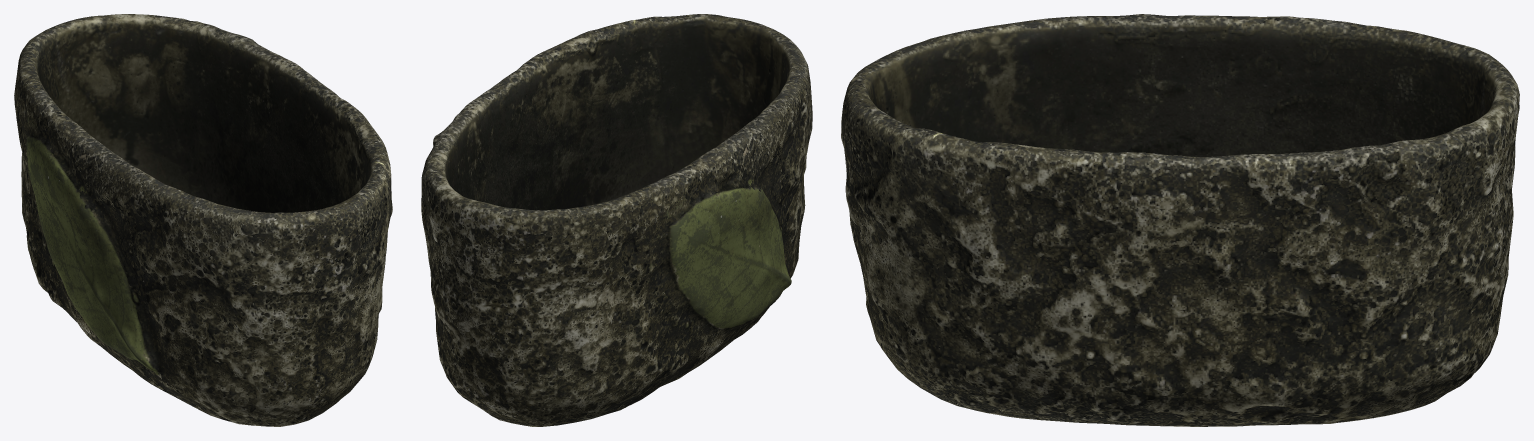
3 renders of one model, left to right at view 1: azimuth 30°, elevation 25°; view 2: azimuth 150°, elevation 25°; view 3: azimuth 270°, elevation 25°, orthographic. The views are drawn at different scales.
Parts seen in each view (by area): view 1: Aset_container_decorative_S_uirgdihiw_LOD0; view 2: Aset_container_decorative_S_uirgdihiw_LOD0; view 3: Aset_container_decorative_S_uirgdihiw_LOD0.
Part boxes in pixels (left/top/right/bottom): Aset_container_decorative_S_uirgdihiw_LOD0: left=14, top=14, right=392, bottom=426; Aset_container_decorative_S_uirgdihiw_LOD0: left=421, top=14, right=812, bottom=426; Aset_container_decorative_S_uirgdihiw_LOD0: left=841, top=14, right=1519, bottom=426.
Size of the model in its own units: 0.0345 by 0.0611 by 0.0301.
Materials: 1 (1 with a texture image).
